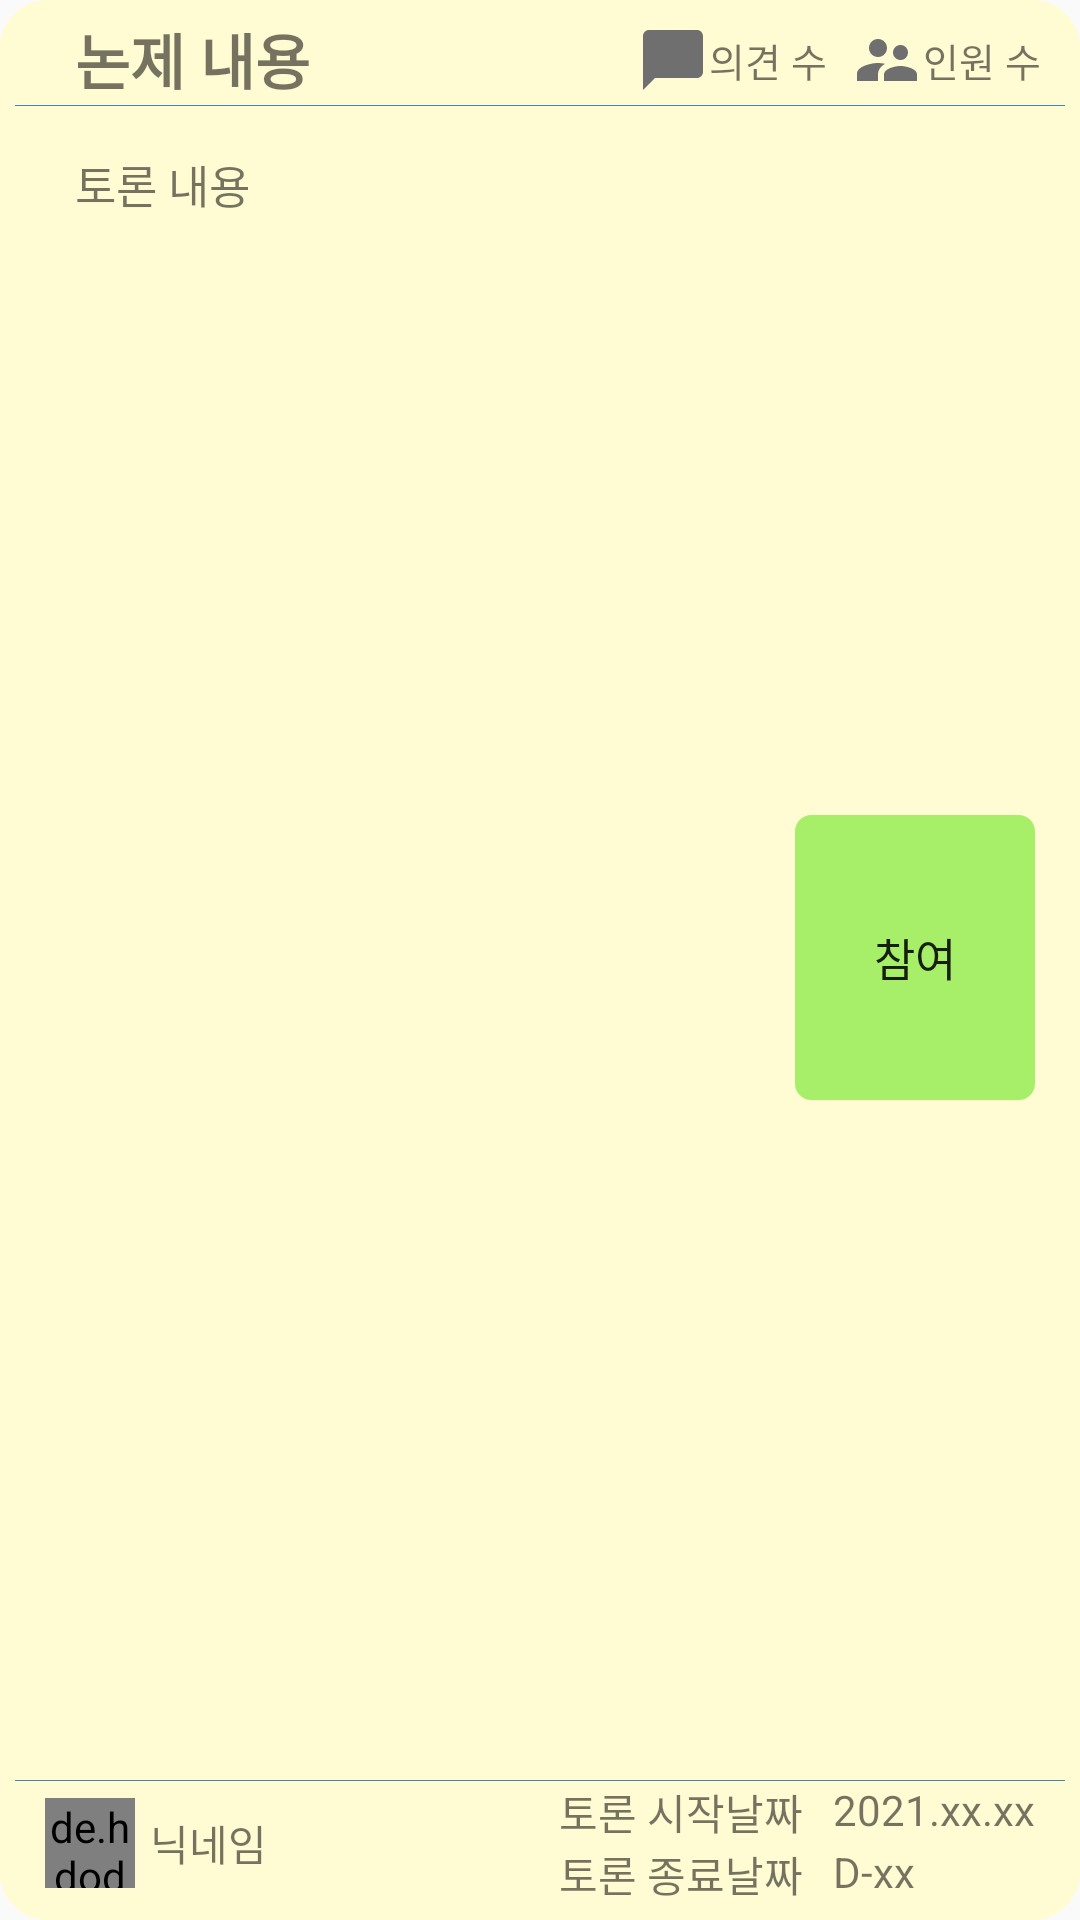

Icon click points for this 1080 x 1920 phone screenshot, format [x,y]:
chat bubble: [673,60]
supervisor account: [887,60]
